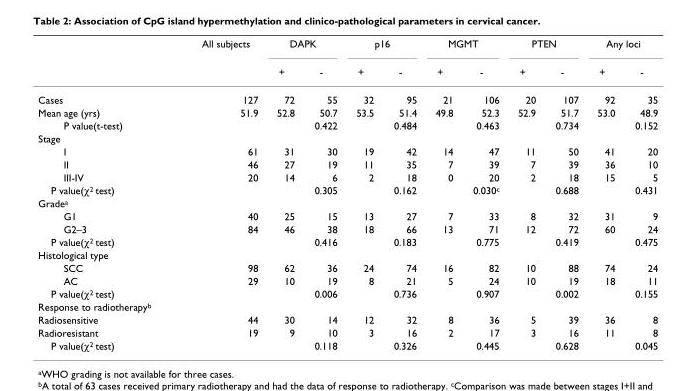table: (37, 37, 657, 351)
table column: (37, 37, 175, 351), (175, 37, 266, 351), (462, 37, 507, 351), (303, 37, 346, 351), (544, 37, 587, 351), (383, 37, 425, 351), (266, 37, 303, 351), (346, 37, 383, 351), (425, 37, 462, 351), (507, 37, 544, 351), (587, 37, 624, 351), (624, 37, 657, 351)
table column header: (37, 37, 657, 85)
table projected row header: (37, 131, 657, 144), (37, 196, 657, 209), (37, 248, 657, 260), (37, 300, 657, 312)
table row: (37, 57, 657, 85), (37, 37, 657, 57), (37, 85, 657, 105), (37, 182, 657, 196), (37, 234, 657, 248), (37, 286, 657, 300), (37, 105, 657, 118), (37, 118, 657, 131), (37, 131, 657, 144), (37, 144, 657, 157), (37, 157, 657, 170), (37, 196, 657, 209), (37, 209, 657, 222), (37, 260, 657, 273), (37, 273, 657, 286), (37, 312, 657, 325), (37, 325, 657, 338), (37, 338, 657, 351), (37, 170, 657, 182), (37, 222, 657, 234), (37, 248, 657, 260), (37, 300, 657, 312)
table spanning cell: (175, 37, 266, 85), (425, 37, 507, 57), (266, 37, 346, 57), (507, 37, 587, 57), (346, 37, 425, 57), (587, 37, 657, 57)
